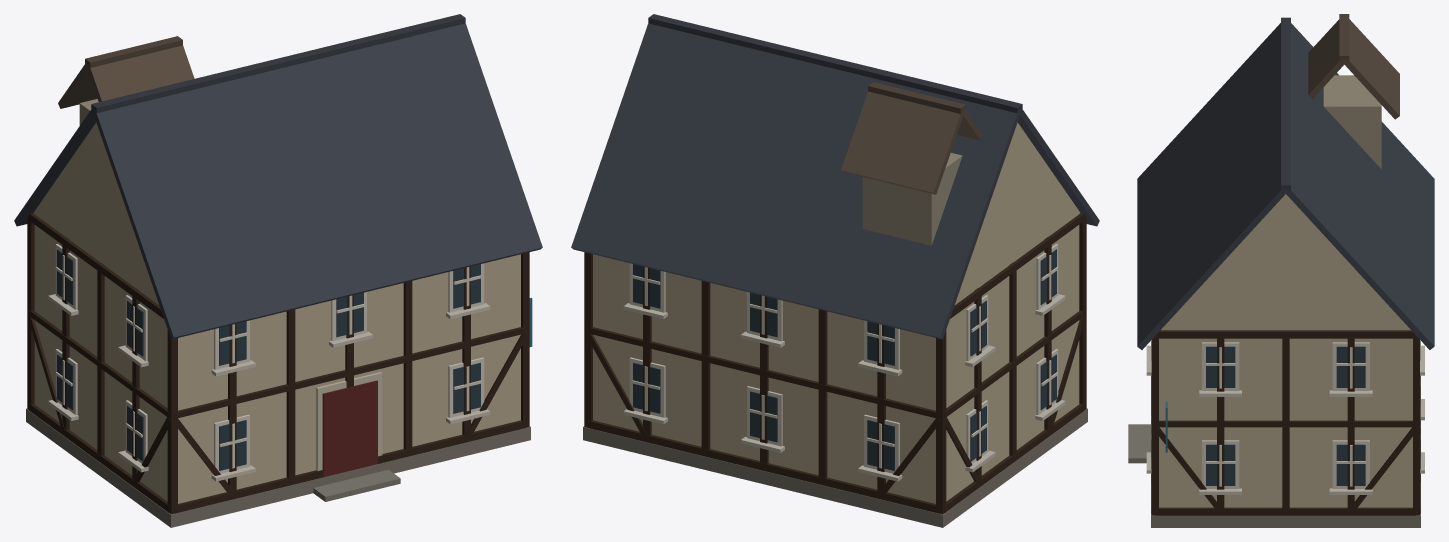
The model's file is procedural_academy@3.glb.
The picture shows the model from 3 angles, left to right: view 1: azimuth 30°, elevation 25°; view 2: azimuth 150°, elevation 25°; view 3: azimuth 270°, elevation 25°; orthographic projection. The views are drawn at different scales.
Parts seen in each view (by area): view 1: part_0; view 2: part_0; view 3: part_0.
Part boxes in pixels (left/top/right/bottom): part_0: left=14, top=14, right=542, bottom=527; part_0: left=571, top=14, right=1099, bottom=527; part_0: left=1128, top=14, right=1434, bottom=527.
Bounding box in the file's own units: 8.93 × 8.82 × 6.8.
